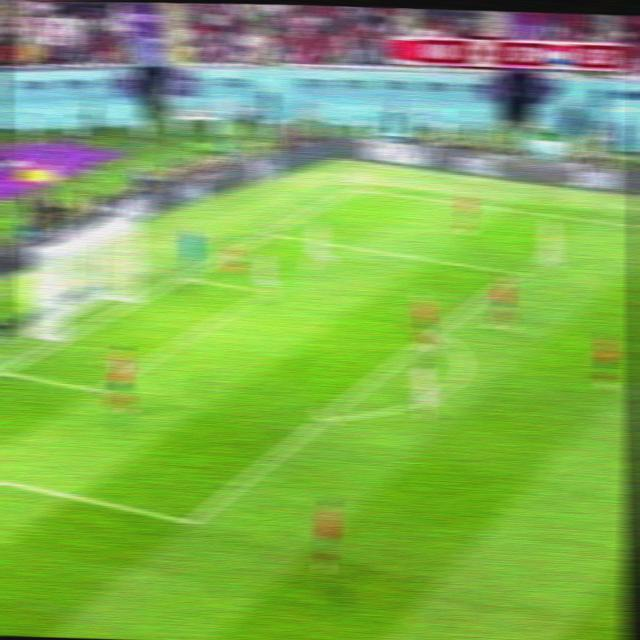bigarea_bottom_inner: (177, 505, 206, 535)
bigarea_top_inner: (504, 263, 527, 281)
bigarea_top_outter: (259, 224, 280, 240)
bottom_arc_area_intersection: (314, 407, 337, 427)
corner: (345, 182, 368, 195)
smallarea_bottom_inner: (86, 376, 111, 401)
smallarea_bottom_outter: (0, 359, 15, 381)
smallarea_top_inner: (255, 280, 277, 297)
smallarea_top_outter: (176, 267, 199, 285)
top_arc_area_intersection: (425, 320, 448, 340)
